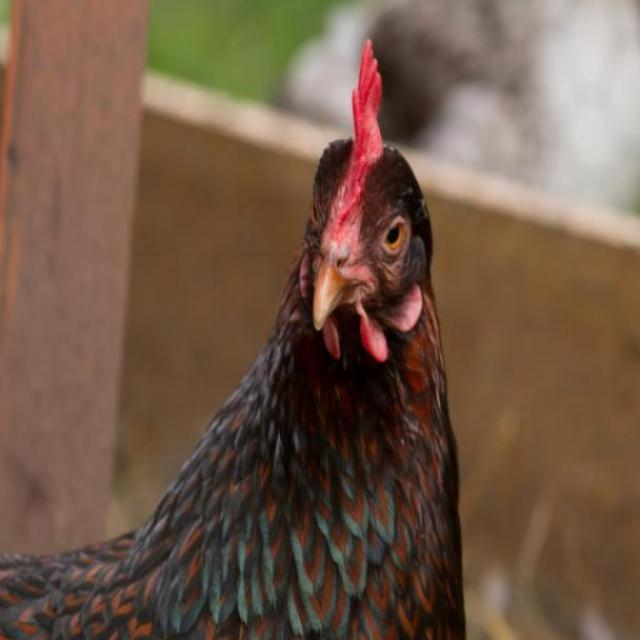Chicken: (59, 86, 463, 640)
